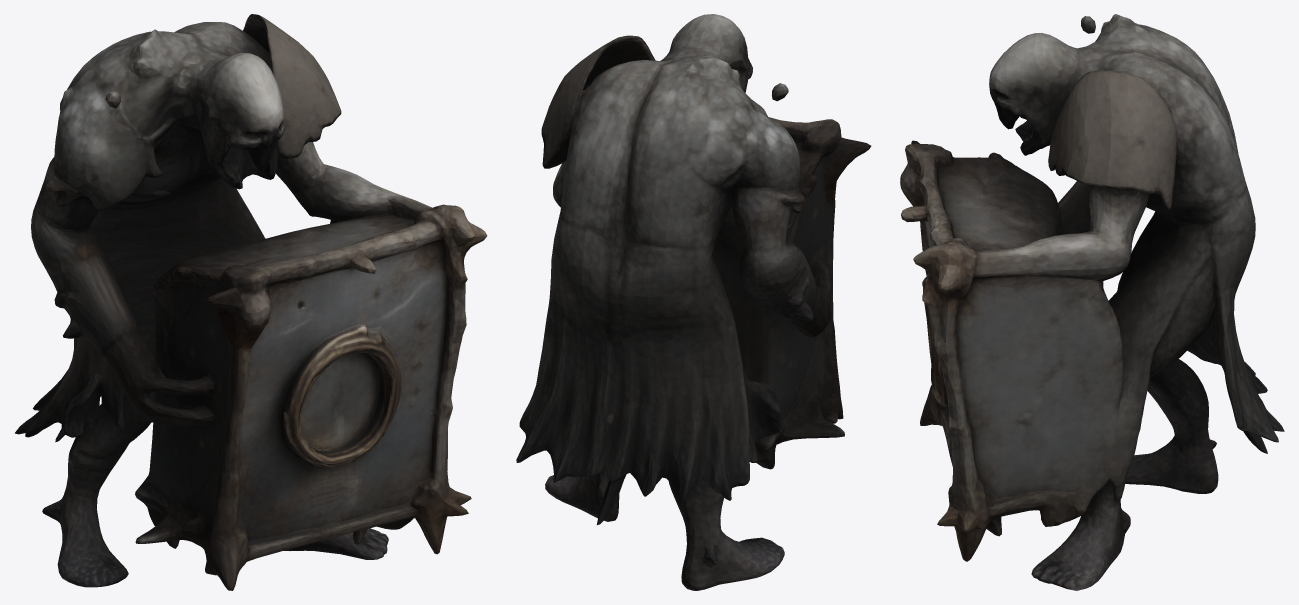
Rendered from shield.glb.
3 renders of one model, left to right at view 1: azimuth 30°, elevation 25°; view 2: azimuth 150°, elevation 25°; view 3: azimuth 270°, elevation 25°, orthographic. The views are drawn at different scales.
Visible parts, largest first — view 1: world; view 2: world; view 3: world.
Part boxes in pixels (box(x1,y1,x2,y2)): world: box(15, 14, 487, 590); world: box(516, 14, 871, 590); world: box(900, 14, 1284, 590).
Size of the model in its own units: 0.6555 by 0.9934 by 0.7084.
1 material, 1 textured.
